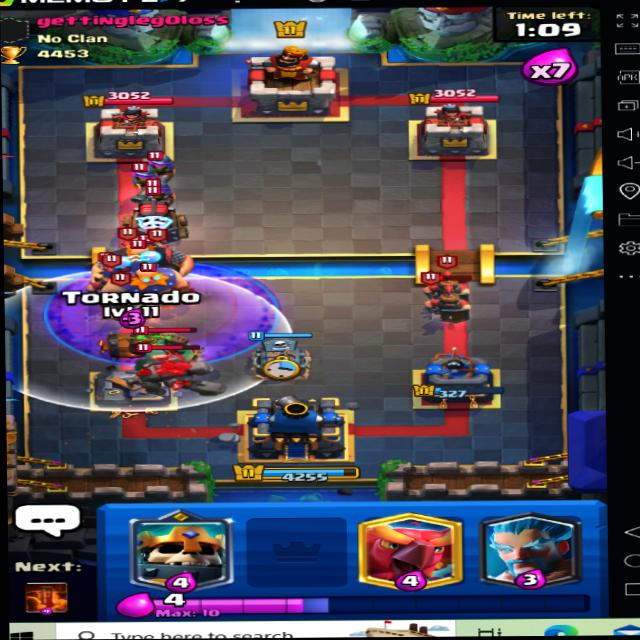electro-giant: (98, 247, 205, 312)
goblin-giant: (115, 319, 209, 374)
golem: (136, 343, 227, 399)
musketeer: (142, 145, 180, 184), (127, 162, 168, 196), (139, 177, 175, 204)
royal-giant: (93, 234, 197, 276)
royal-recruits: (428, 276, 471, 326), (425, 259, 476, 297)
sparky: (119, 185, 192, 244)
